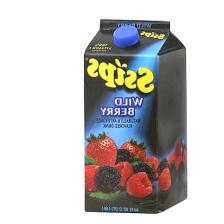carton: (77, 10, 190, 218)
